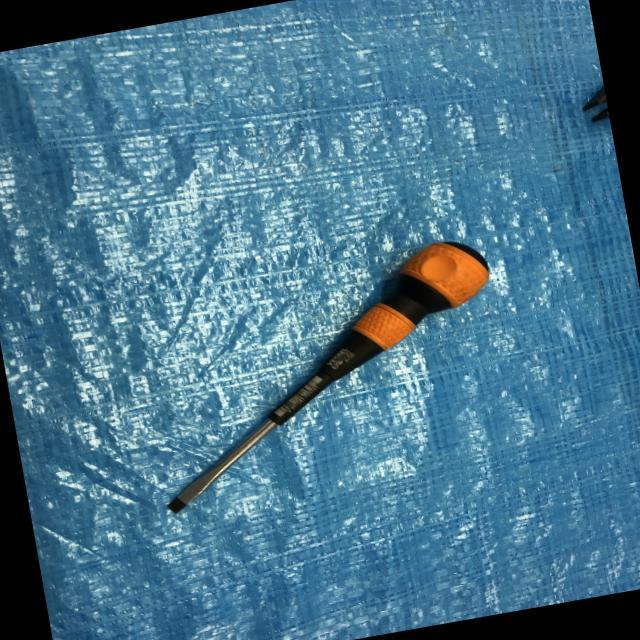screwdriver: (110, 223, 534, 529)
